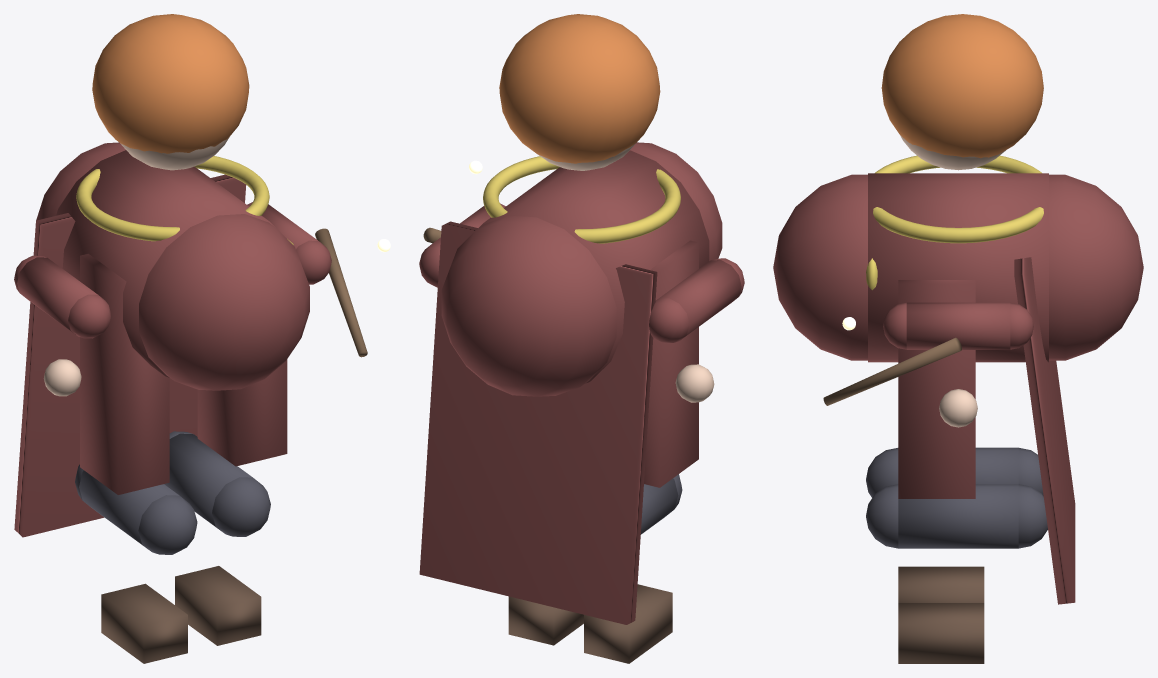
Rendered from ron.glb.
The picture shows the model from 3 angles, left to right: view 1: azimuth 30°, elevation 25°; view 2: azimuth 150°, elevation 25°; view 3: azimuth 270°, elevation 25°; orthographic projection. The views are drawn at different scales.
Visible parts, largest first — view 1: torso_top, crown, cloak, robe_panel_l, torso_body, robe_panel_r, boot, boot.001, thigh_body.001, trim, upperL_body, thigh_top (+9 smaller); view 2: cloak, torso_bot, crown, torso_body, robe_panel_l, boot, trim, upperL_body, torso_top, boot.001, upperL_bot, thigh_body (+3 smaller); view 3: torso_body, crown, torso_bot, torso_top, robe_panel_r, cloak, thigh_body.001, boot.001, upperR_body, trim, boot, shaft (+9 smaller).
Part boxes in pixels (<box>): torso_top: <box>139,214,309,390</box>; crown: <box>92,14,249,153</box>; cloak: <box>14,174,246,537</box>; robe_panel_l: <box>80,253,169,494</box>; torso_body: <box>56,150,275,377</box>; robe_panel_r: <box>197,359,287,466</box>; boot: <box>101,583,187,663</box>; boot.001: <box>175,566,261,645</box>; thigh_body.001: <box>164,433,252,531</box>; trim: <box>76,156,269,241</box>; upperL_body: <box>17,257,97,334</box>; thigh_top: <box>138,495,197,554</box>; cloak: <box>419,221,657,624</box>; torso_bot: <box>441,215,616,396</box>; crown: <box>499,14,660,163</box>; torso_body: <box>478,150,709,383</box>; robe_panel_l: <box>644,240,698,487</box>; boot: <box>584,584,672,663</box>; trim: <box>483,156,680,243</box>; upperL_body: <box>659,260,741,339</box>; torso_top: <box>630,142,722,260</box>; boot.001: <box>508,596,583,645</box>; upperL_bot: <box>649,298,689,343</box>; thigh_body: <box>640,478,678,534</box>; torso_body: <box>868,173,1048,362</box>; crown: <box>881,14,1043,158</box>; torso_bot: <box>1049,174,1143,360</box>; torso_top: <box>773,174,867,360</box>; robe_panel_r: <box>898,280,975,498</box>; cloak: <box>1014,257,1075,604</box>; thigh_body.001: <box>898,484,1018,548</box>; boot.001: <box>898,603,984,663</box>; upperR_body: <box>906,302,1010,349</box>; trim: <box>873,155,1043,243</box>; boot: <box>898,566,984,602</box>; shaft: <box>823,337,961,405</box>.
Size of the model in its own units: 0.7987 by 1.57 by 0.86.
